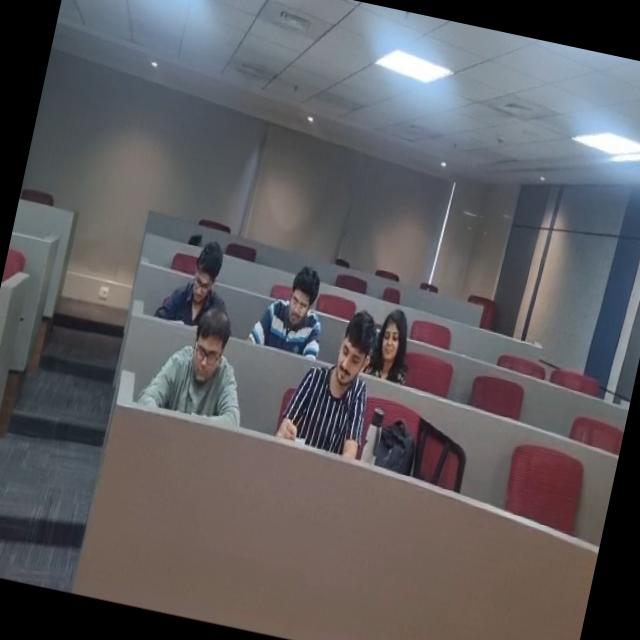cheating: (294, 304, 384, 464)
non-cheating: (144, 302, 264, 433), (252, 254, 341, 376), (158, 238, 236, 322), (356, 296, 426, 386)
